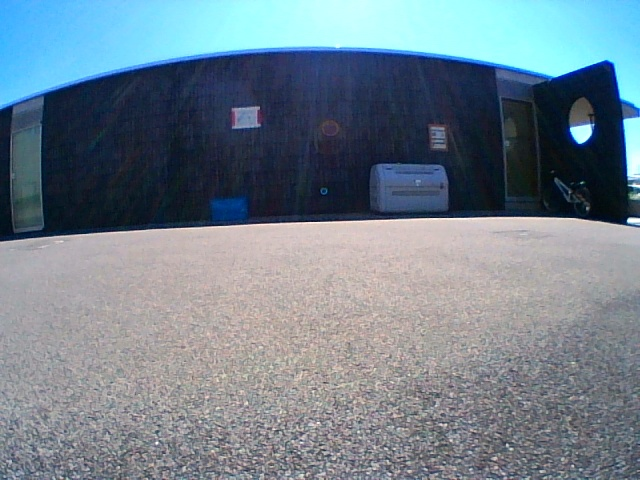blue_box: (209, 198, 245, 219)
